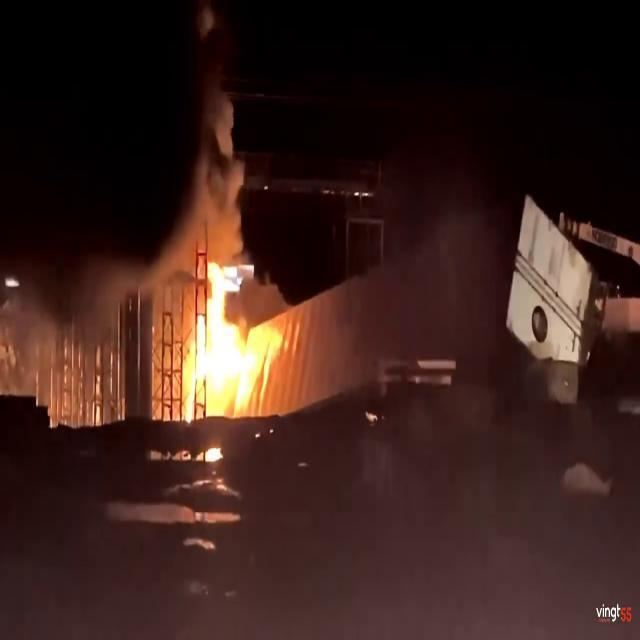Fire: (179, 250, 277, 416)
Smoke: (174, 2, 252, 264)
